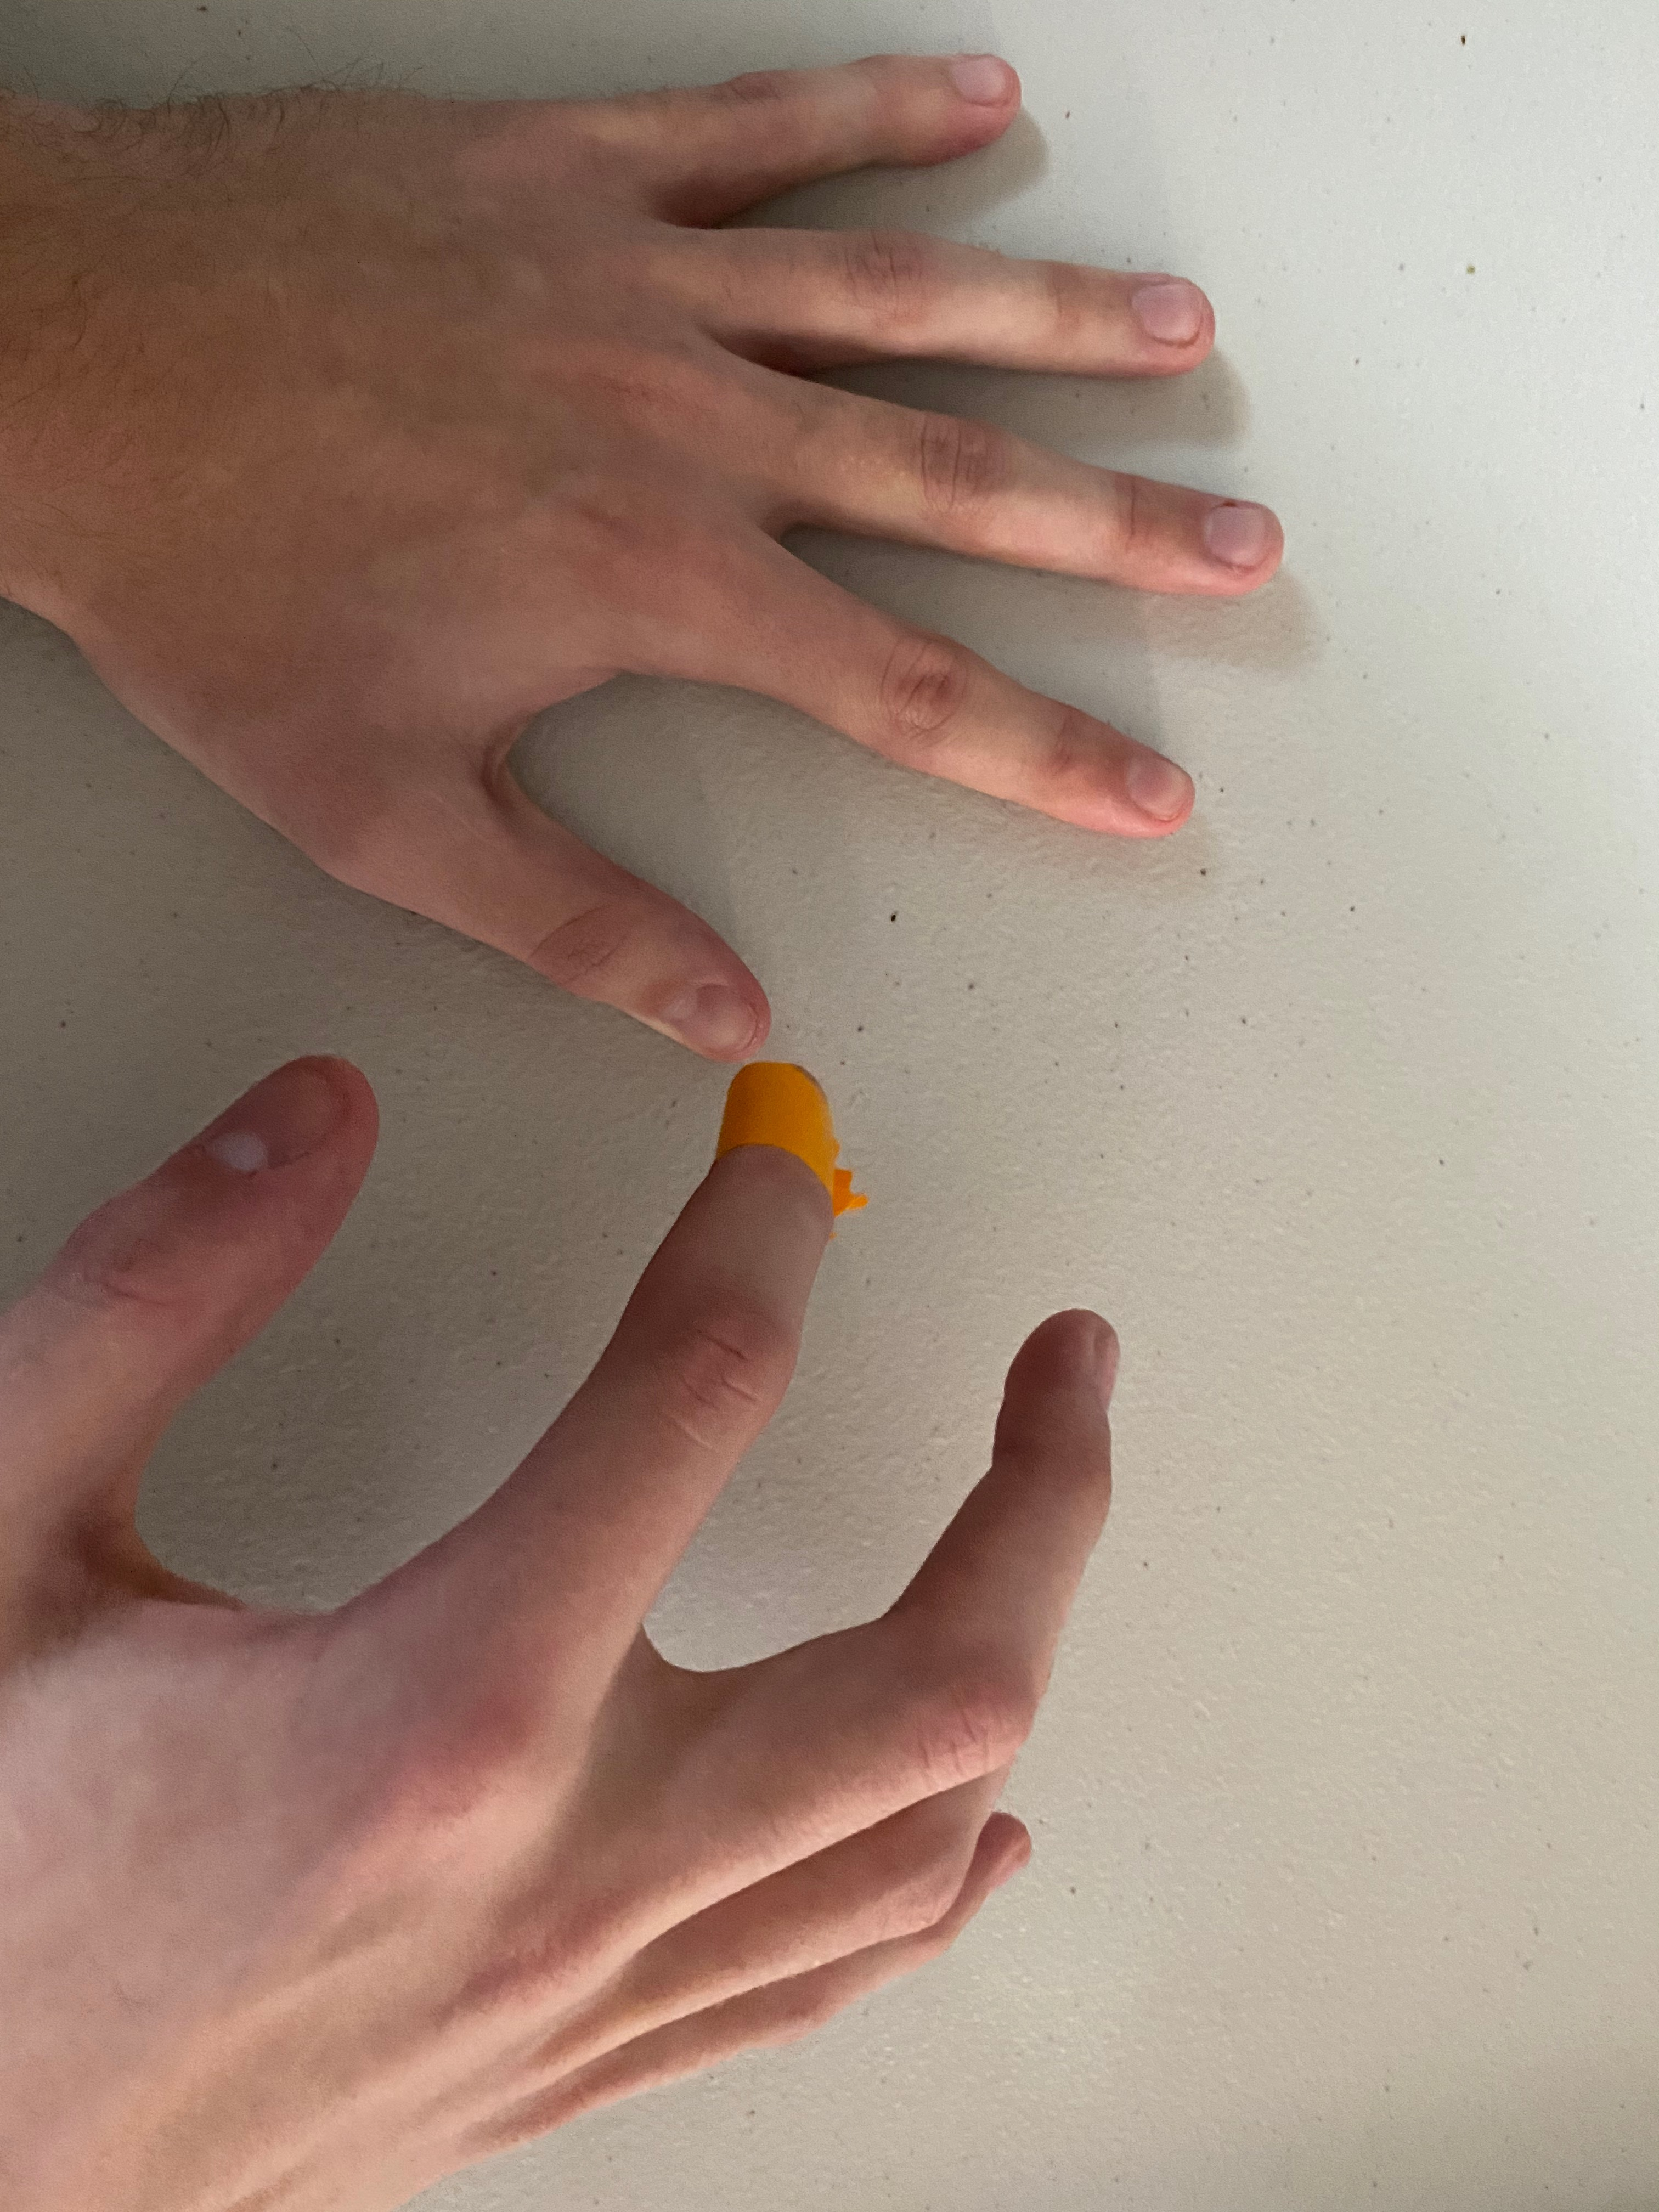fingertip: (673, 1015, 917, 1249)
